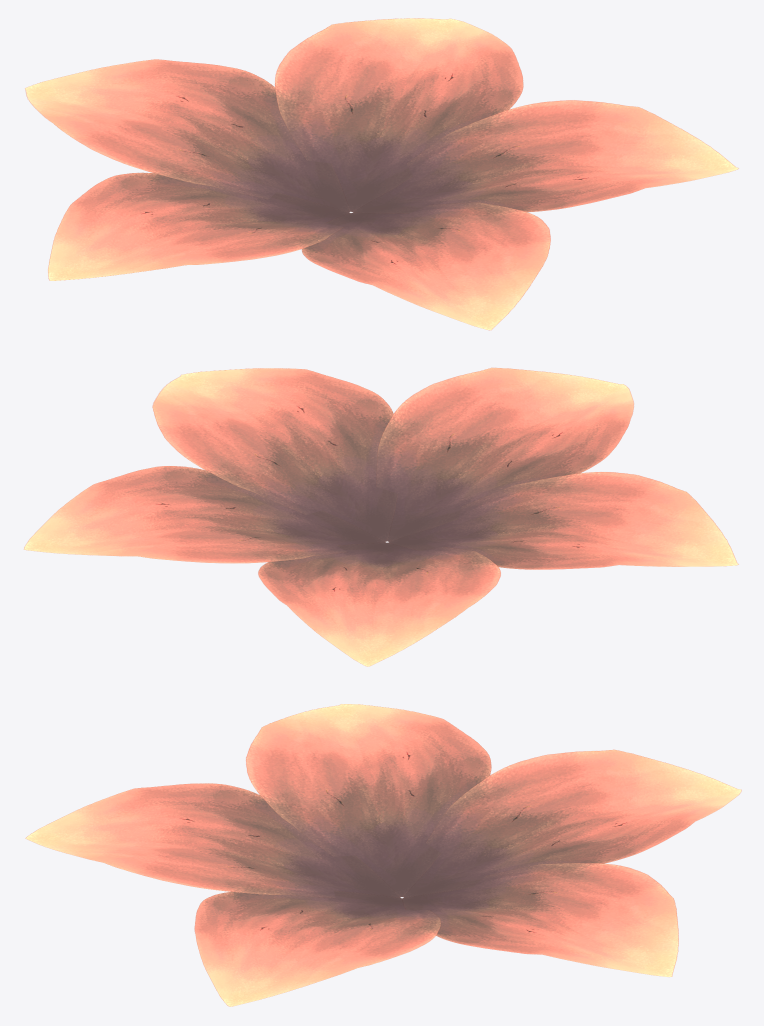
The model's file is array_of_petals.glb.
3 renders of one model, top to bottom at view 1: azimuth 30°, elevation 25°; view 2: azimuth 150°, elevation 25°; view 3: azimuth 270°, elevation 25°, orthographic. The views are drawn at different scales.
Parts seen in each view (by area): view 1: pPlane1, pPlane2, pPlane5, pPlane3, pPlane4; view 2: pPlane4, pPlane5, pPlane3, pPlane1, pPlane2; view 3: pPlane3, pPlane2, pPlane4, pPlane1, pPlane5.
Part boxes in pixels (bbox=[...]): pPlane1: bbox=[274, 18, 523, 211]; pPlane2: bbox=[25, 59, 349, 212]; pPlane5: bbox=[351, 100, 738, 213]; pPlane3: bbox=[48, 172, 350, 280]; pPlane4: bbox=[302, 202, 550, 330]; pPlane4: bbox=[376, 367, 633, 541]; pPlane5: bbox=[152, 368, 397, 541]; pPlane3: bbox=[388, 472, 738, 569]; pPlane1: bbox=[24, 466, 385, 563]; pPlane2: bbox=[258, 542, 500, 666]; pPlane3: bbox=[246, 704, 491, 897]; pPlane2: bbox=[402, 749, 741, 897]; pPlane4: bbox=[25, 783, 400, 898]; pPlane1: bbox=[402, 863, 678, 976]; pPlane5: bbox=[194, 890, 440, 1006].
Size of the model in its own units: 2.64 by 0.2308 by 2.63.
1 material, 1 textured.
